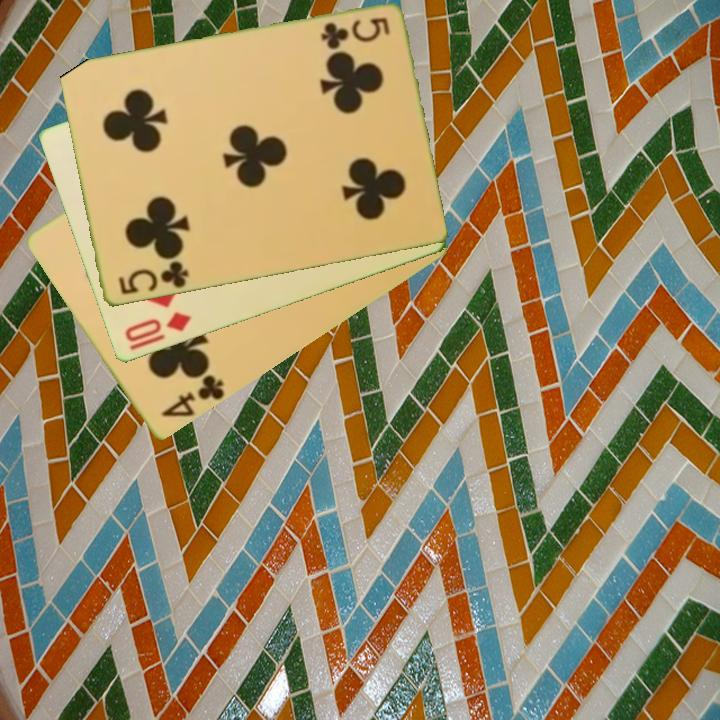10d: (121, 308, 194, 354)
4c: (157, 371, 227, 421)
5c: (114, 258, 191, 298), (316, 14, 393, 52)
